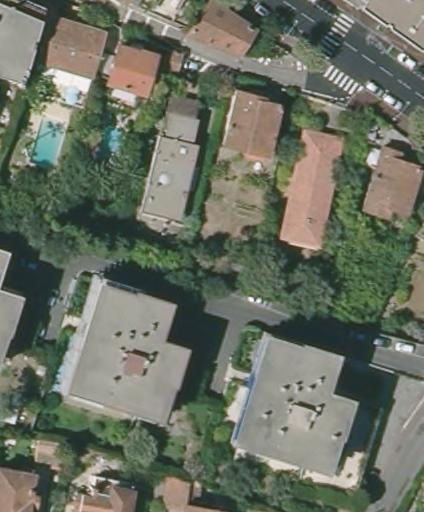pool: (27, 116, 70, 167), (99, 122, 131, 163)
